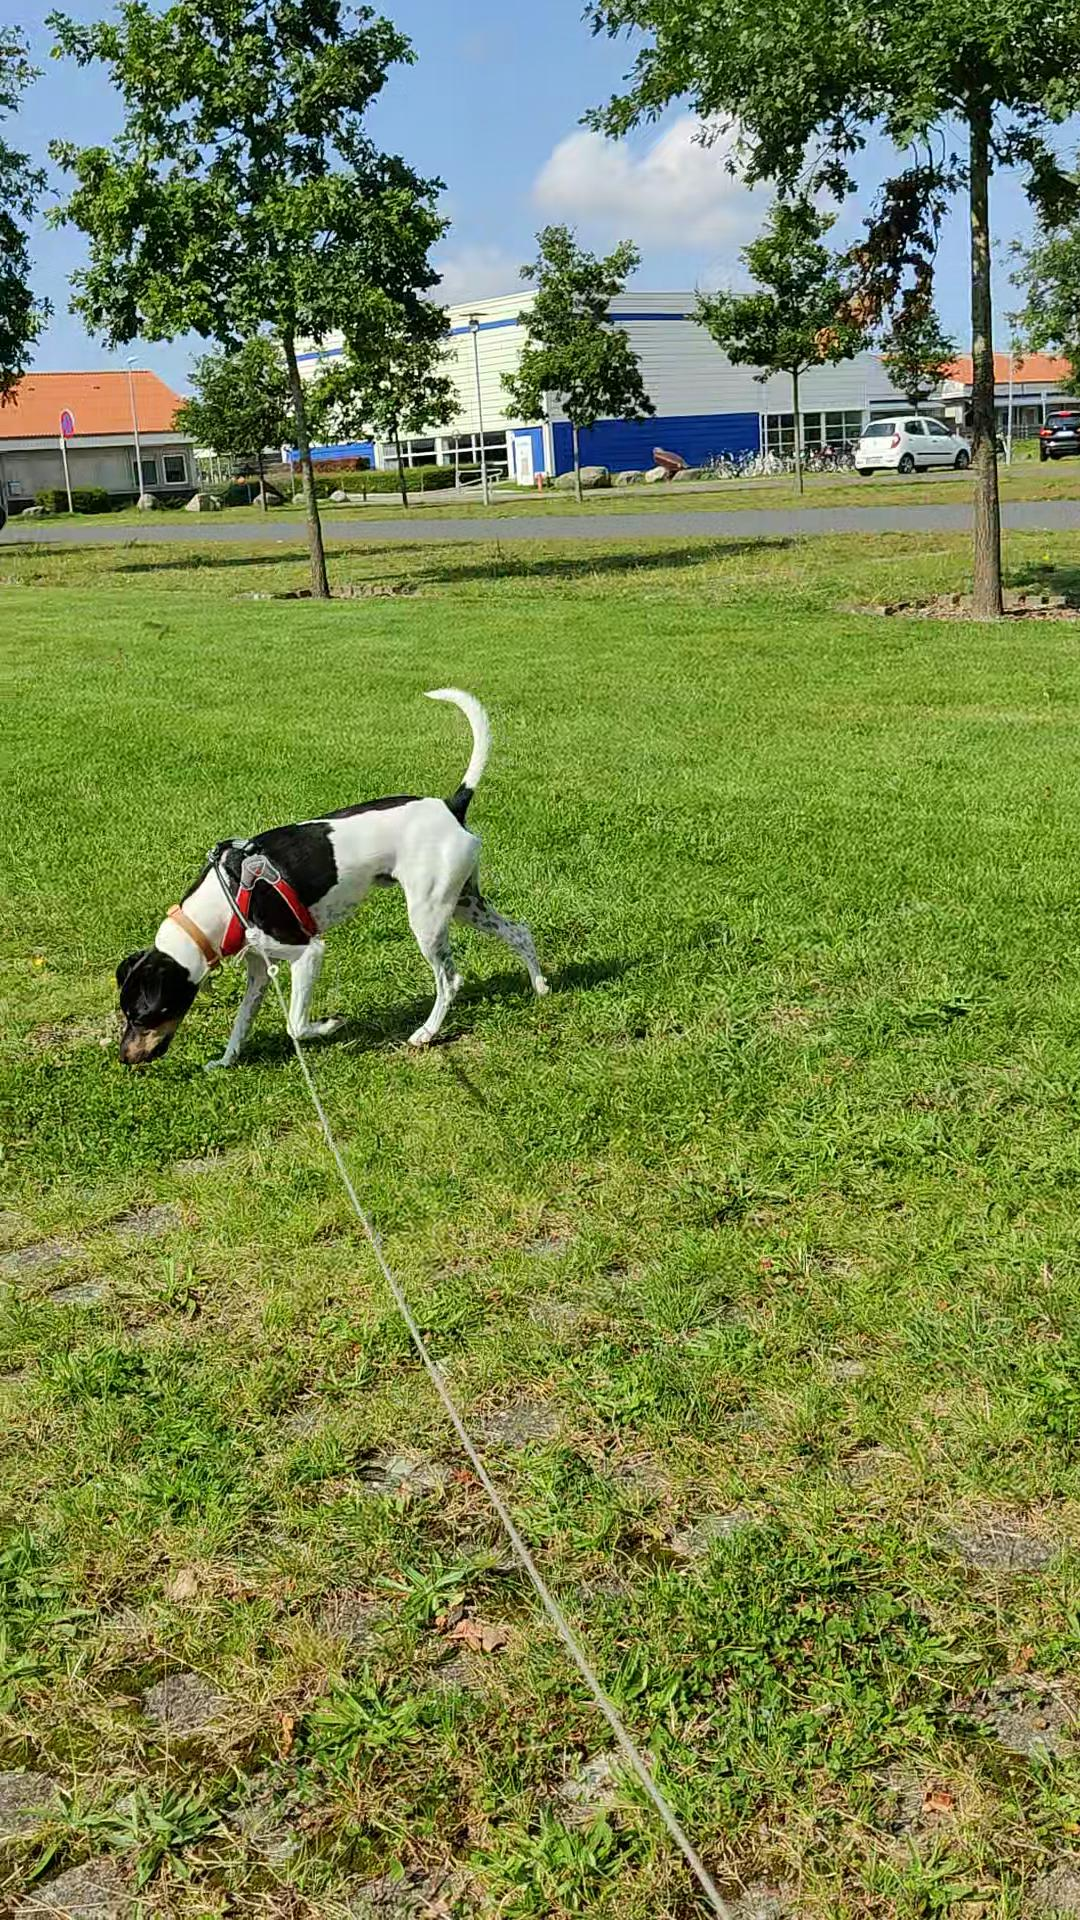Dog: (113, 684, 560, 1073)
